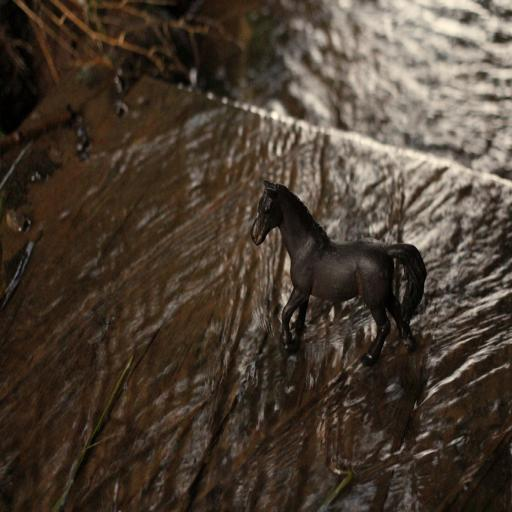horse: (251, 180, 428, 362)
